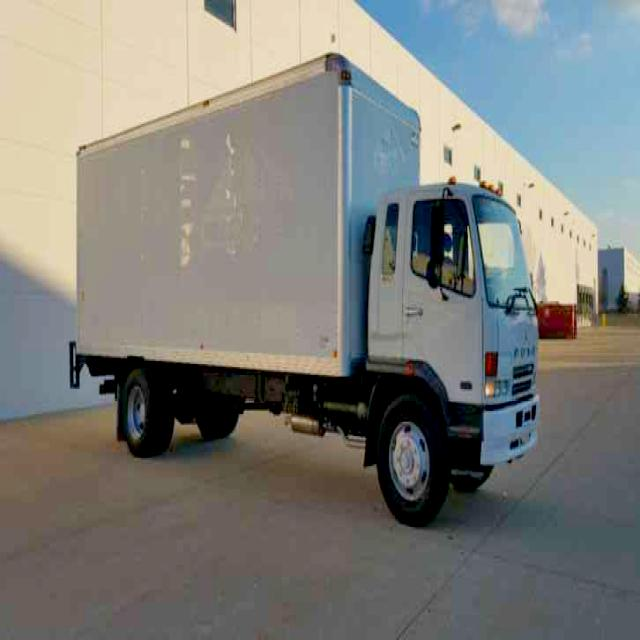truck: (68, 58, 541, 517)
